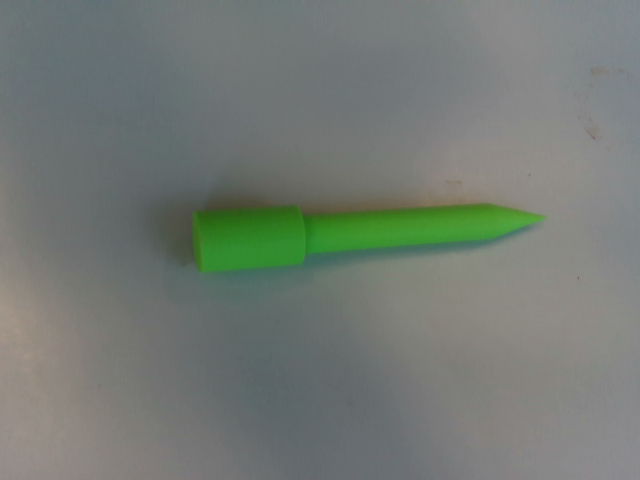Probe: (186, 194, 557, 282)
